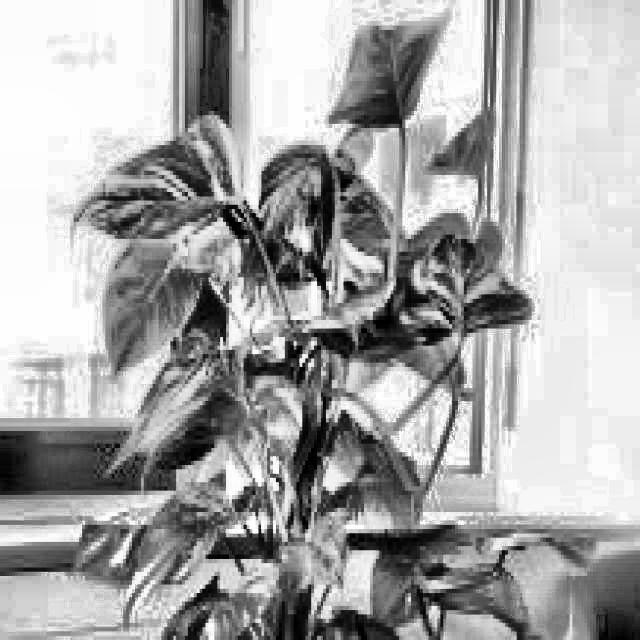plants: (121, 85, 528, 636)
